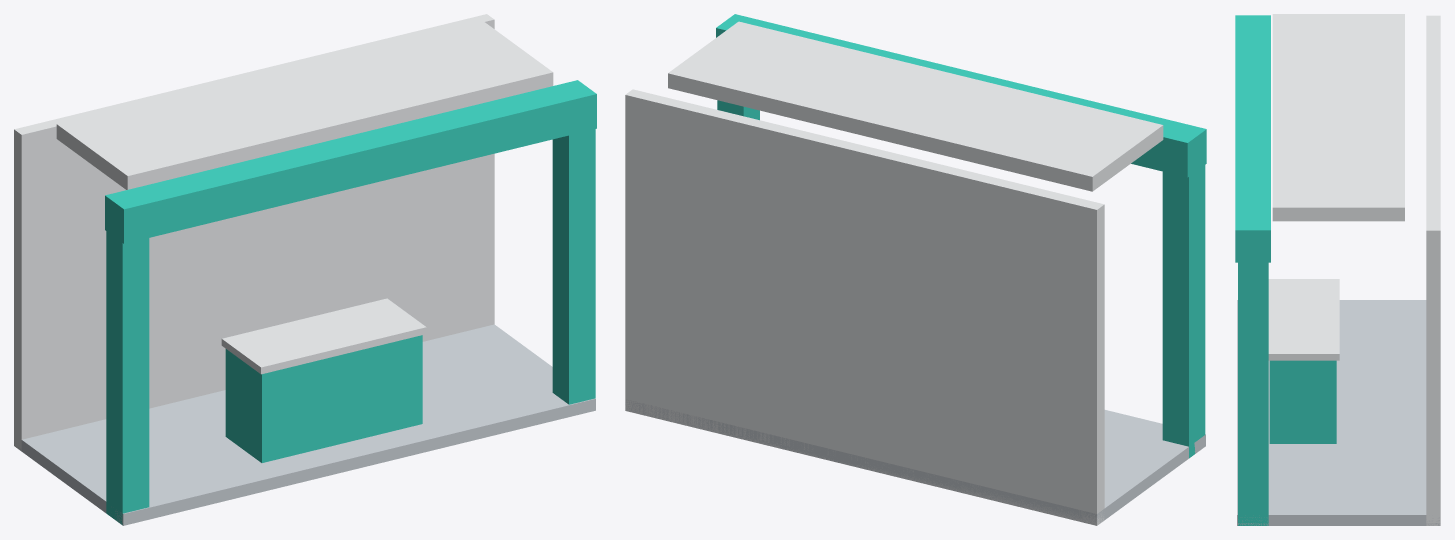
3 views of the same model, side by side, from view 1: azimuth 30°, elevation 25°; view 2: azimuth 150°, elevation 25°; view 3: azimuth 270°, elevation 25° (orthographic). The views are drawn at different scales.
Parts seen in each view (by area): view 1: Exhibition Booth Concept; view 2: Exhibition Booth Concept; view 3: Exhibition Booth Concept.
Boxes of the visible parts, left/top/right/bottom form: Exhibition Booth Concept: left=14, top=14, right=596, bottom=525; Exhibition Booth Concept: left=625, top=14, right=1206, bottom=525; Exhibition Booth Concept: left=1235, top=14, right=1440, bottom=525.
Bounding box in the file's own units: 5 × 3.34 × 2.01.
